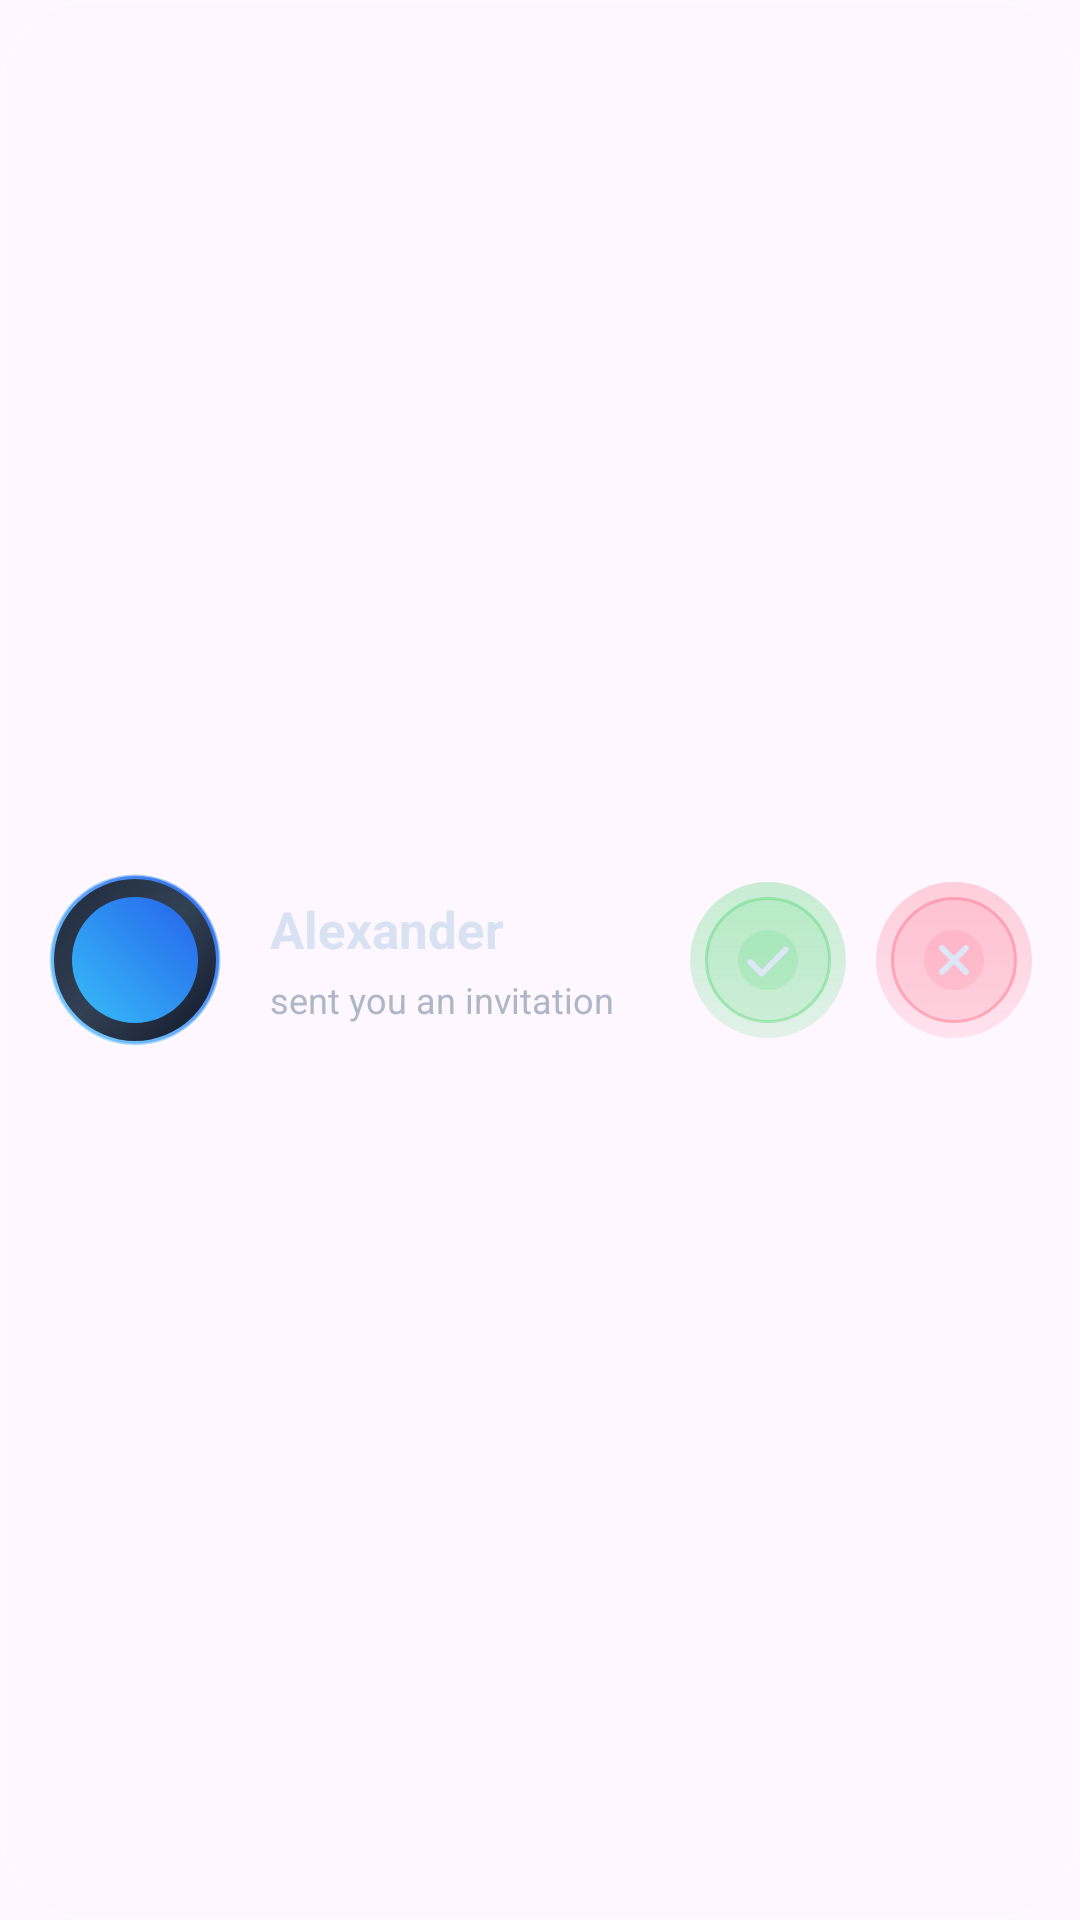

Screen size 1080*1920. Icon name, then its center in pixels as point (x, y):
accept: point (768, 960)
ignore: point (954, 960)
